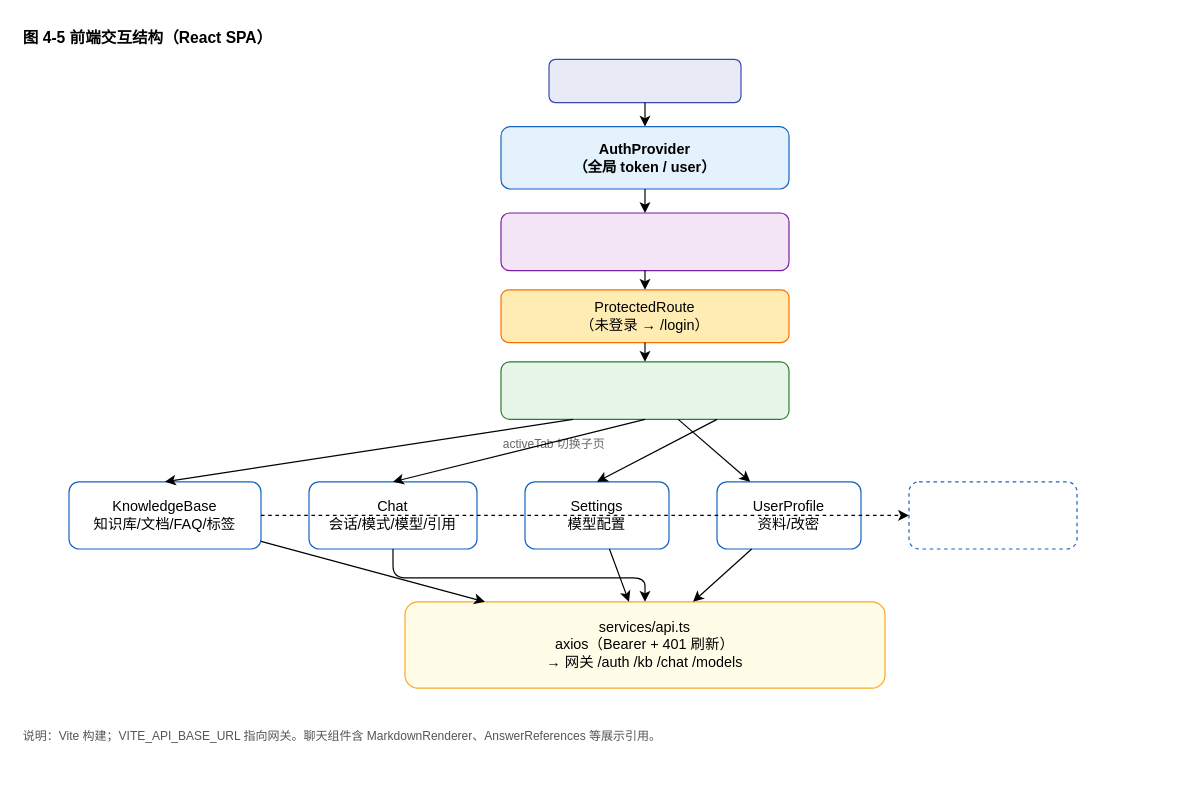
This 1193x785 diagram has some shape labels left out. The shapes that lost their labels are listed below. From the top down, each one's centre as x and y in pixels, then its label:
At pixel 644 80: "main.tsx → App.tsx".
At pixel 644 241: "React Router /login | /dashboard".
At pixel 644 390: "Dashboard 壳层 侧栏 + 顶栏 + 内容区".
At pixel 992 515: "DocumentDetail （文档子页）".
